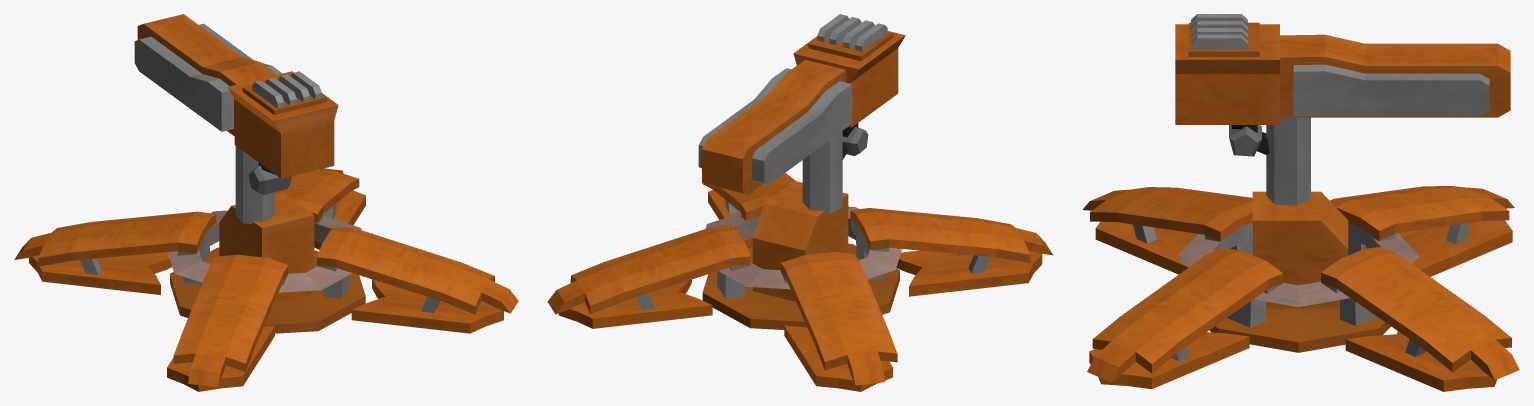
File: TorreTintaAMAST3.fbx
3 views of the same model, side by side, from view 1: azimuth 30°, elevation 25°; view 2: azimuth 150°, elevation 25°; view 3: azimuth 270°, elevation 25° (orthographic). The views are drawn at different scales.
Visible parts, largest first — view 1: Cube.001, Cube.000; view 2: Cube.001, Cube.000; view 3: Cube.001, Cube.000.
Boxes of the visible parts, x1,y1,x2,y2 form: Cube.001: [14, 168, 518, 391]; Cube.000: [134, 14, 338, 223]; Cube.001: [547, 173, 1052, 391]; Cube.000: [698, 14, 905, 214]; Cube.001: [1082, 186, 1519, 391]; Cube.000: [1175, 14, 1510, 205].
Size of the model in its own units: 6.05 by 4.12 by 6.05.
